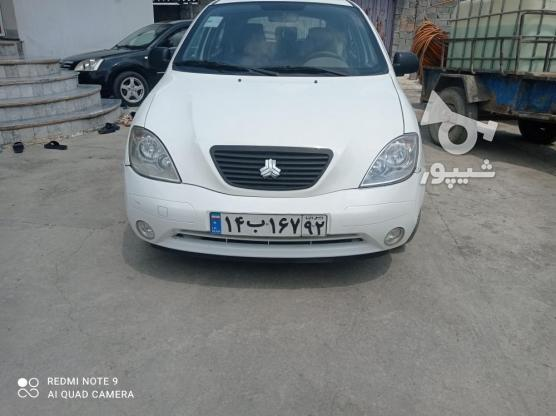car: (209, 208, 328, 239)
